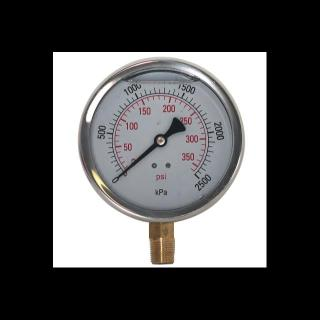gauge: (54, 51, 266, 245), (110, 167, 128, 185), (191, 169, 205, 187), (153, 133, 167, 147), (115, 172, 123, 181)
